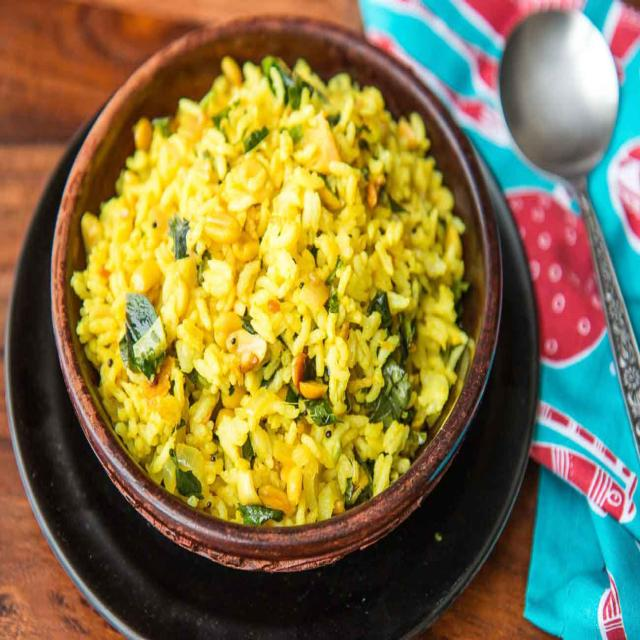lemon rice: (66, 37, 478, 548)
